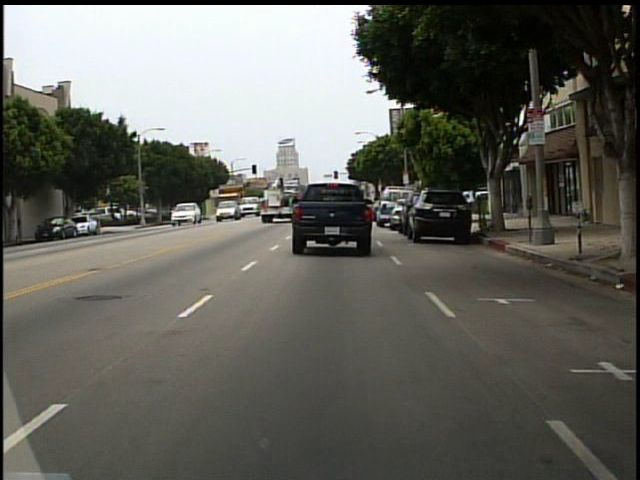person: (463, 182, 478, 224)
